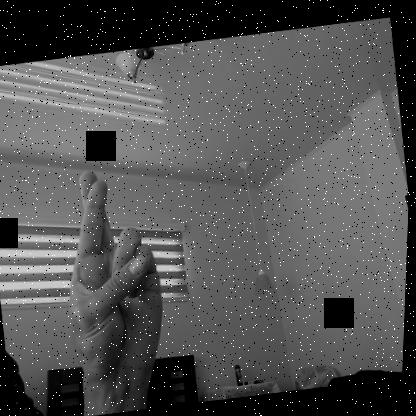R: (50, 159, 180, 381)
